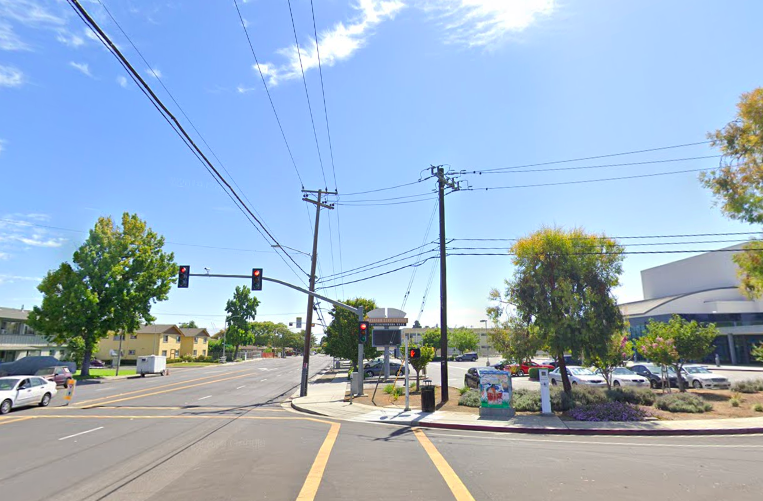tree: (27, 209, 176, 382), (486, 220, 627, 399)
utility_pole: (414, 155, 467, 213), (291, 174, 343, 225)
